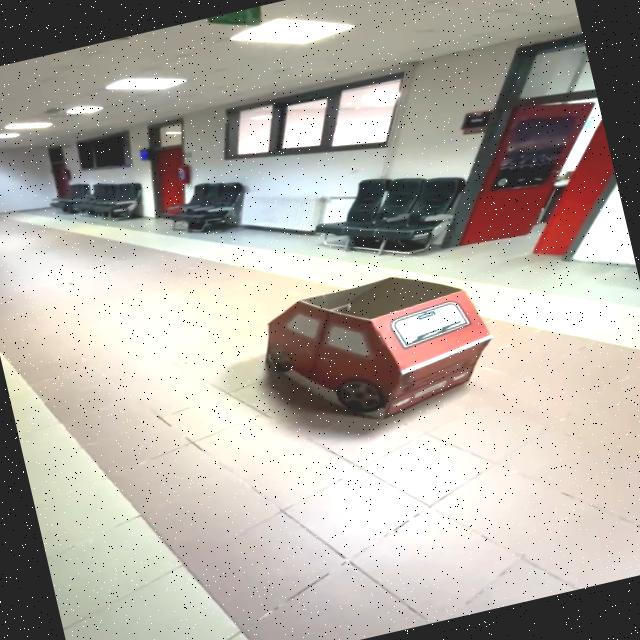red_car: (241, 234, 524, 458)
